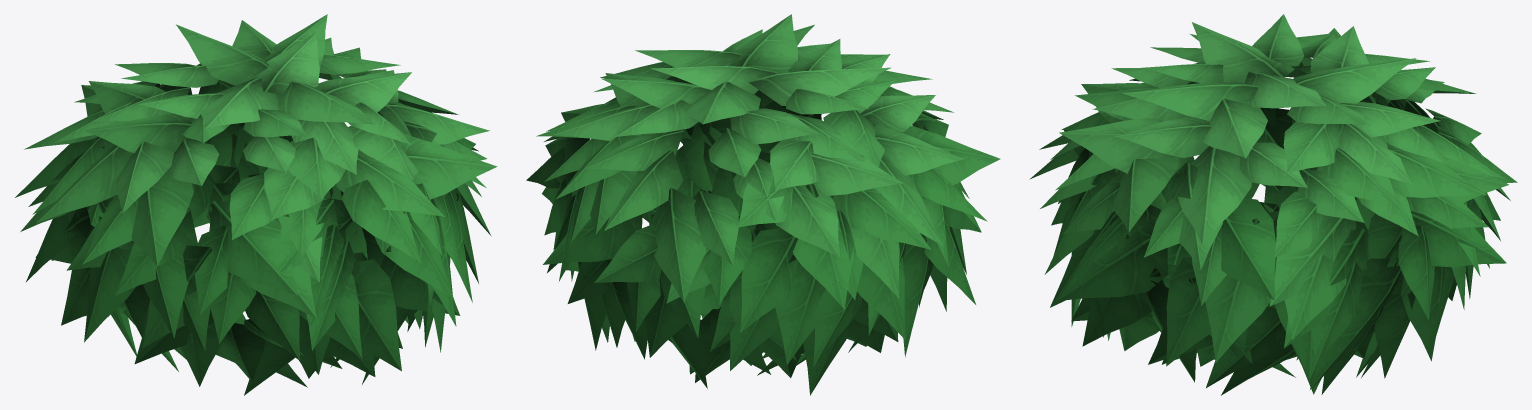
3 renders of one model, left to right at view 1: azimuth 30°, elevation 25°; view 2: azimuth 150°, elevation 25°; view 3: azimuth 270°, elevation 25°, orthographic. The views are drawn at different scales.
Parts seen in each view (by area): view 1: grid_7_leaves_LOD0; view 2: grid_7_leaves_LOD0; view 3: grid_7_leaves_LOD0.
Part boxes in pixels (<box>): grid_7_leaves_LOD0: <box>15,14,497,395</box>; grid_7_leaves_LOD0: <box>526,14,1000,395</box>; grid_7_leaves_LOD0: <box>1029,14,1517,395</box>.
Size of what is drawn, in the model's own units: 1.45 by 0.9389 by 1.4.
1 material, 1 textured.
